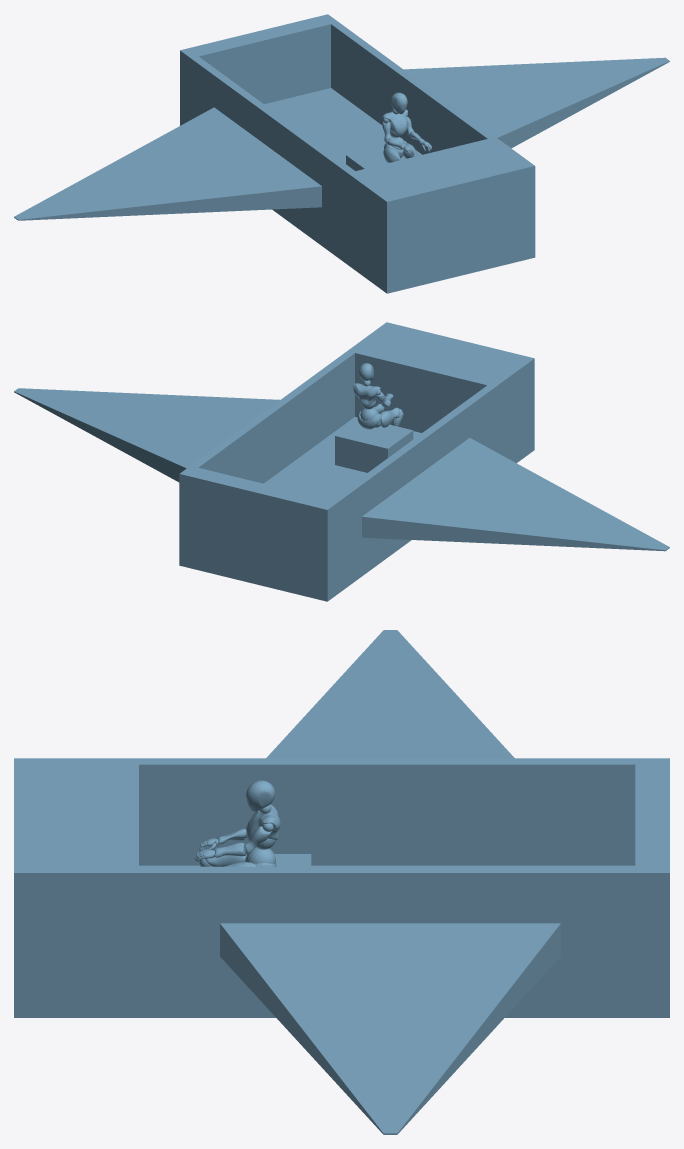
File: aerial-cockpit.glb
3 renders of one model, top to bottom at view 1: azimuth 30°, elevation 25°; view 2: azimuth 150°, elevation 25°; view 3: azimuth 270°, elevation 25°, orthographic. The views are drawn at different scales.
Parts seen in each view (by area): view 1: xier120.aerial-cockpit.mesh.001, xier120.aerial-cockpit.mesh.005, xier120.aerial-cockpit.mesh.002, xier120.aerial-cockpit.mesh.000, xier120.aerial-cockpit.mesh.003; view 2: xier120.aerial-cockpit.mesh.001, xier120.aerial-cockpit.mesh.005, xier120.aerial-cockpit.mesh.002, xier120.aerial-cockpit.mesh.003, xier120.aerial-cockpit.mesh.000; view 3: xier120.aerial-cockpit.mesh.001, xier120.aerial-cockpit.mesh.002, xier120.aerial-cockpit.mesh.005, xier120.aerial-cockpit.mesh.000, xier120.aerial-cockpit.mesh.004.
Part boxes in pixels (left/top/right/bottom): xier120.aerial-cockpit.mesh.001: left=180, top=14, right=535, bottom=293; xier120.aerial-cockpit.mesh.005: left=14, top=107, right=321, bottom=220; xier120.aerial-cockpit.mesh.002: left=404, top=57, right=669, bottom=148; xier120.aerial-cockpit.mesh.000: left=382, top=92, right=431, bottom=162; xier120.aerial-cockpit.mesh.003: left=346, top=146, right=405, bottom=170; xier120.aerial-cockpit.mesh.001: left=179, top=322, right=534, bottom=601; xier120.aerial-cockpit.mesh.005: left=362, top=438, right=669, bottom=551; xier120.aerial-cockpit.mesh.002: left=14, top=388, right=279, bottom=482; xier120.aerial-cockpit.mesh.003: left=335, top=419, right=413, bottom=472; xier120.aerial-cockpit.mesh.000: left=353, top=363, right=403, bottom=429; xier120.aerial-cockpit.mesh.001: left=14, top=758, right=669, bottom=1017; xier120.aerial-cockpit.mesh.002: left=220, top=923, right=560, bottom=1134; xier120.aerial-cockpit.mesh.005: left=266, top=630, right=514, bottom=758; xier120.aerial-cockpit.mesh.000: left=194, top=780, right=280, bottom=866; xier120.aerial-cockpit.mesh.004: left=195, top=805, right=275, bottom=866.
Bounding box in the file's own units: 10 × 1.78 × 5.51.
